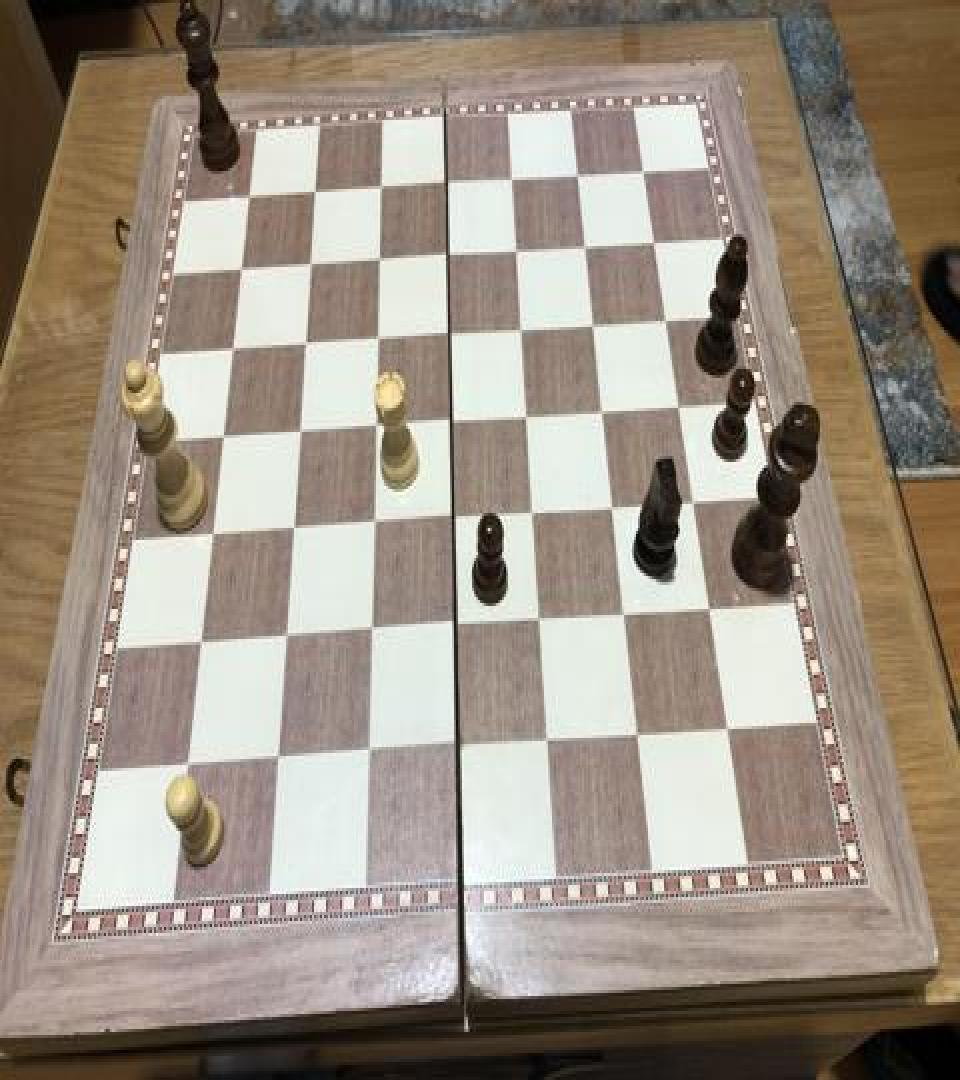xcorner: (361, 616, 385, 653), (276, 622, 300, 659), (632, 153, 656, 189), (567, 158, 591, 194), (501, 162, 525, 198), (435, 166, 459, 202), (369, 171, 393, 207), (303, 176, 327, 212), (237, 180, 261, 216), (643, 224, 667, 260), (575, 228, 599, 264), (506, 234, 530, 270), (437, 238, 461, 274), (368, 243, 392, 279), (299, 248, 323, 284), (230, 254, 254, 290), (655, 302, 679, 338), (583, 308, 607, 344), (511, 312, 535, 348), (439, 318, 463, 354), (367, 322, 391, 358), (221, 333, 245, 369), (669, 388, 693, 424), (593, 394, 617, 430), (517, 399, 541, 435), (441, 405, 465, 441), (365, 411, 389, 447), (289, 416, 313, 452), (212, 422, 236, 458), (684, 484, 708, 520), (604, 490, 628, 526), (524, 495, 548, 531), (444, 501, 468, 537), (363, 507, 387, 543), (283, 513, 307, 549), (202, 519, 226, 555), (700, 591, 724, 627), (616, 597, 640, 633), (531, 603, 555, 639), (446, 609, 470, 645), (191, 628, 215, 664), (719, 710, 743, 746), (629, 717, 653, 753), (539, 724, 563, 760), (449, 730, 473, 766), (359, 738, 383, 774), (269, 744, 293, 780), (178, 752, 202, 788), (294, 329, 318, 364)
